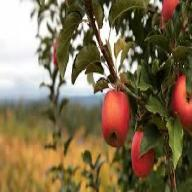apple: (98, 86, 130, 148), (127, 130, 158, 176), (170, 72, 192, 121)
